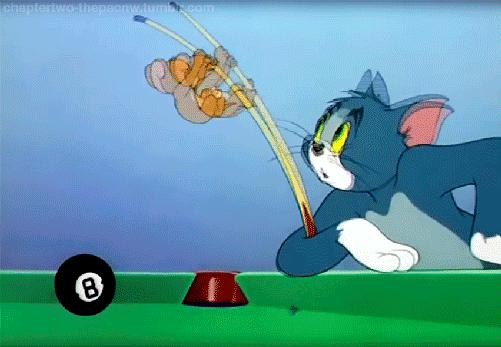jerry: (144, 48, 259, 124)
